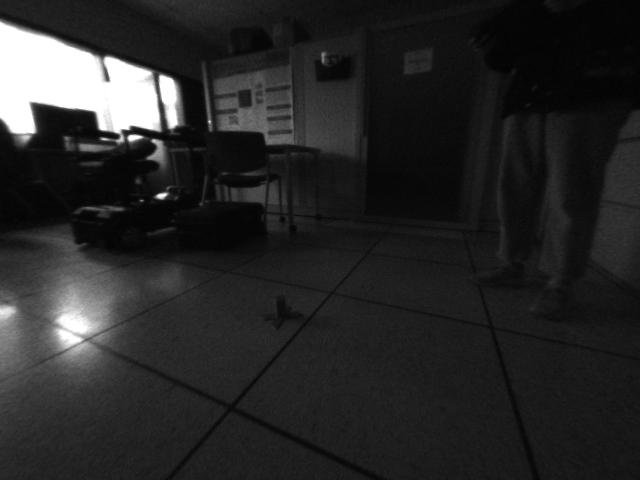x: (256, 295, 303, 328)
